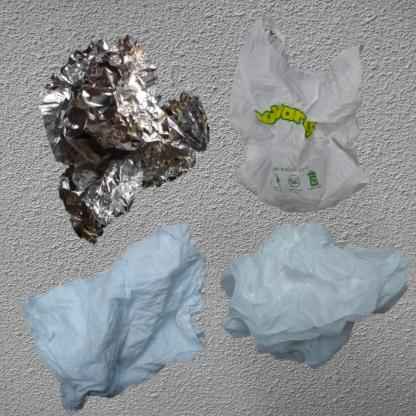aluminio: (10, 10, 255, 272)
bolsa: (213, 10, 401, 233), (213, 213, 416, 380)
papel: (10, 213, 275, 416)
